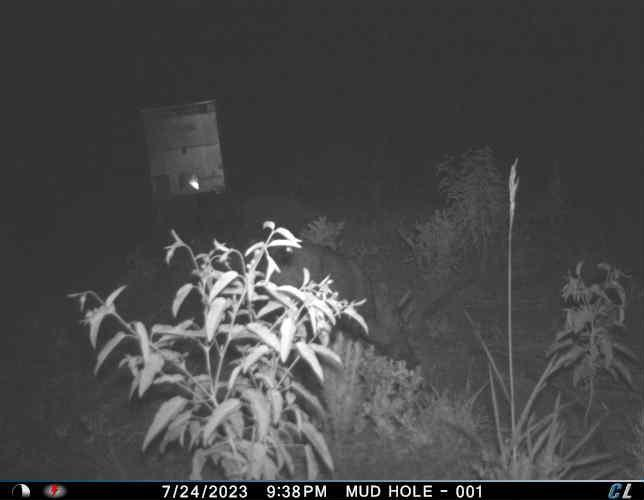Hog: (271, 232, 419, 373)
